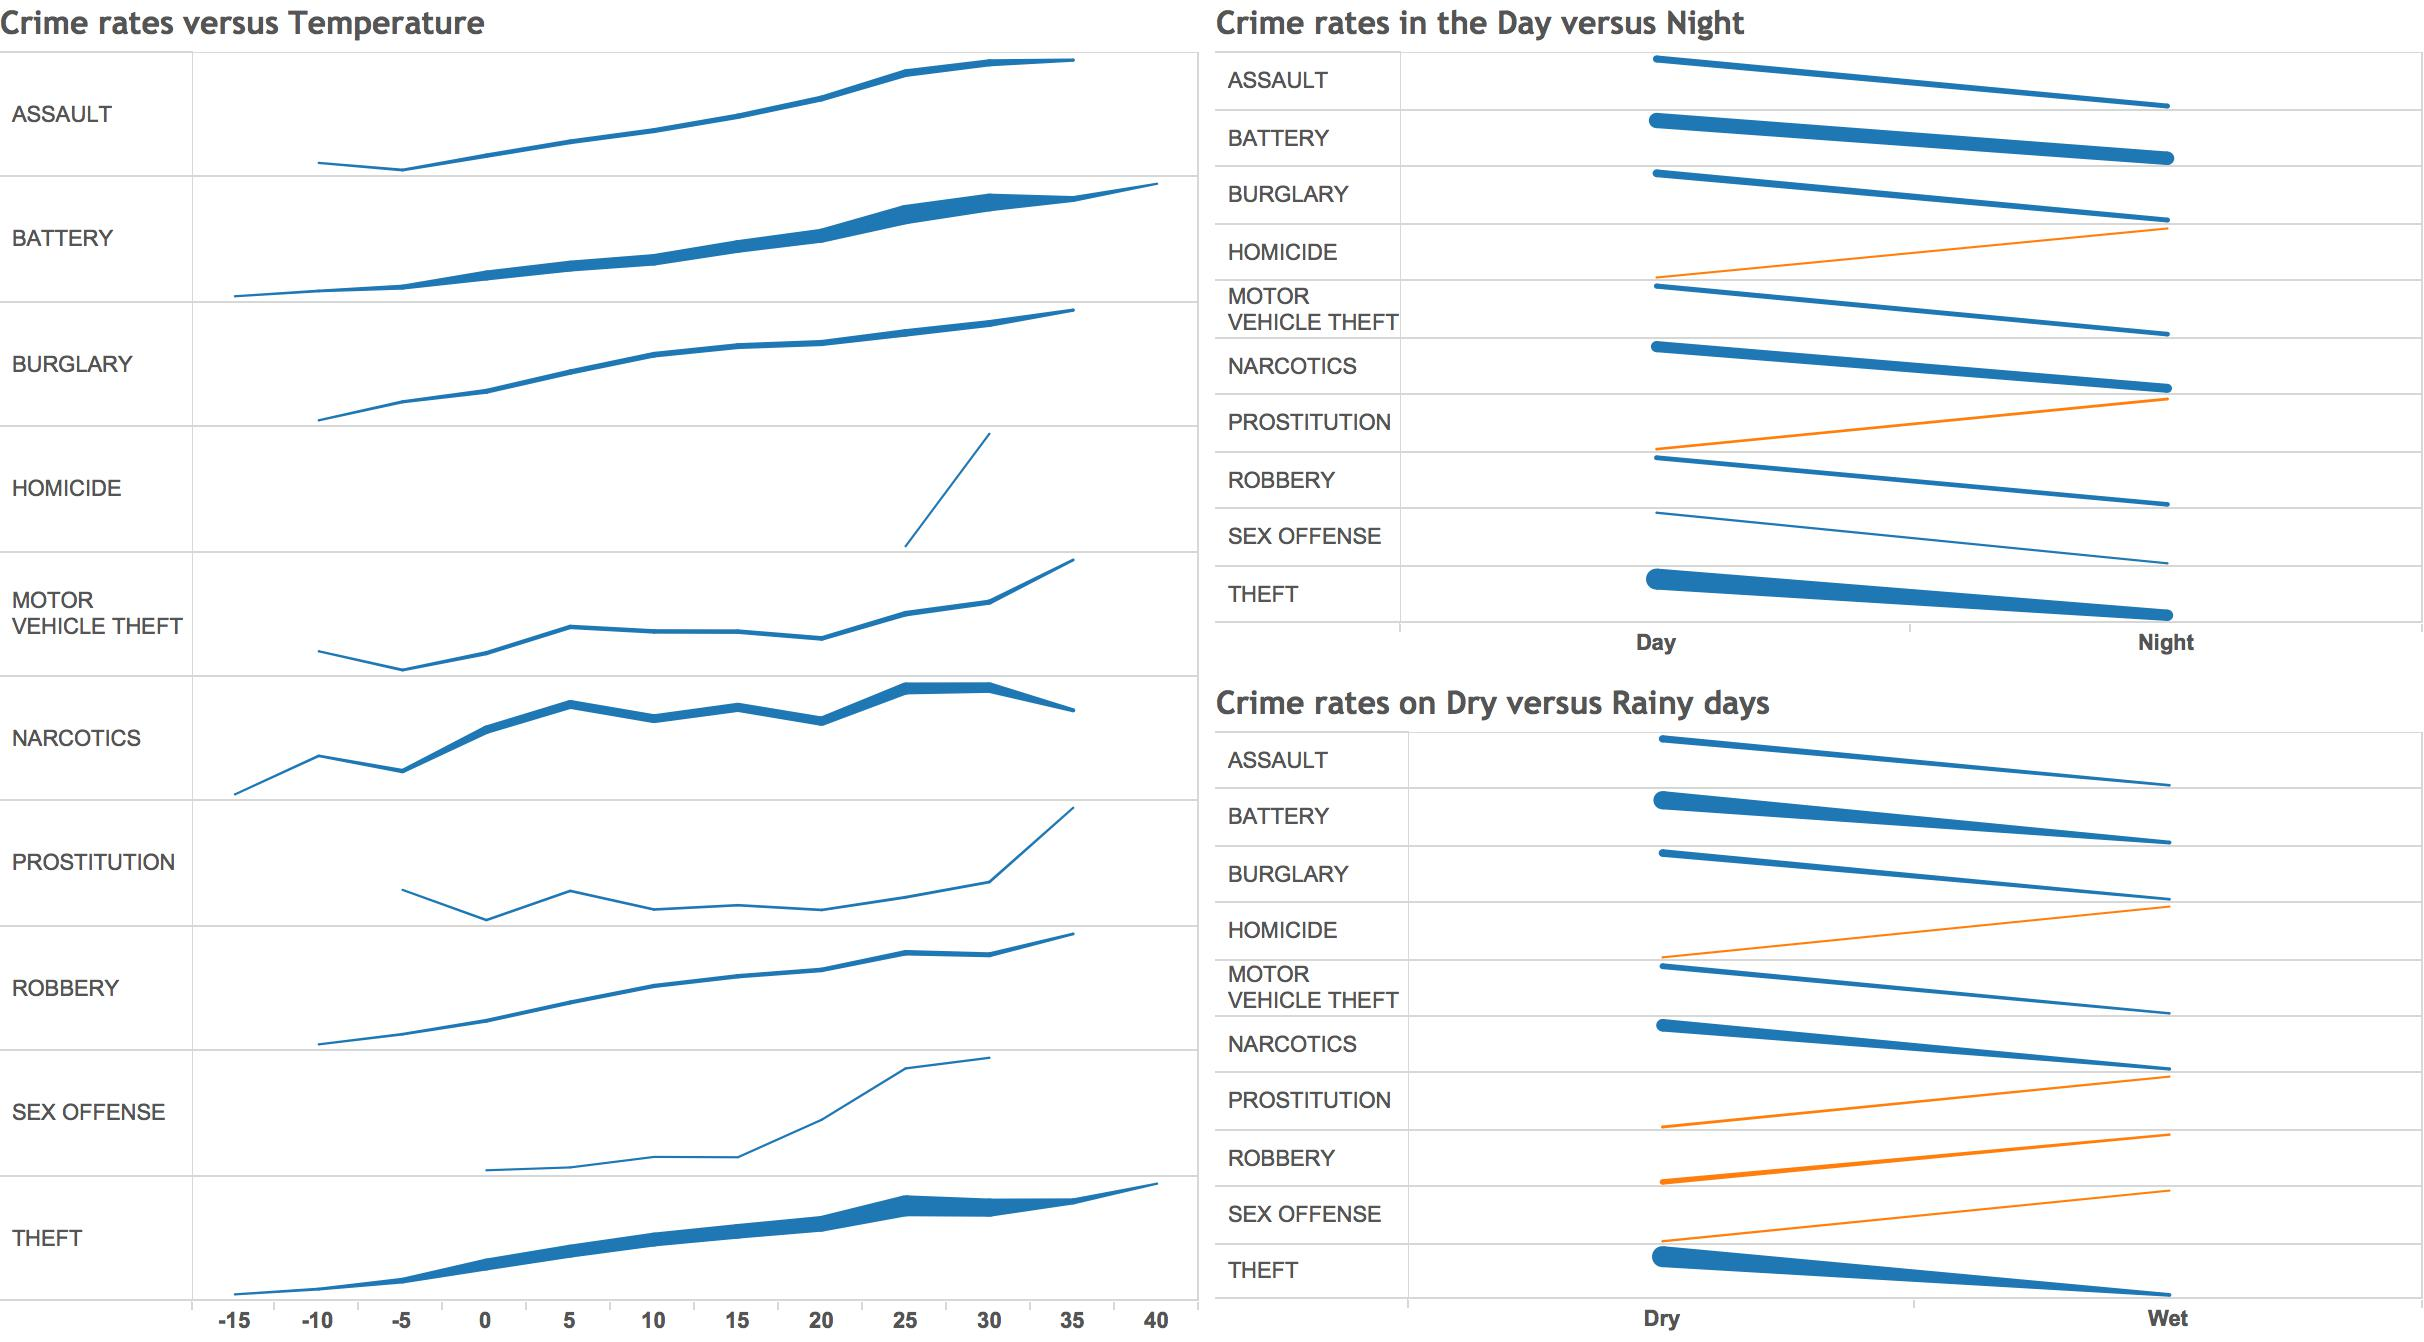

Layout of this report page (visuals, bound fields, positions):
{"tool":"tableau","page":{"name":"Dashboard 1","canvas":[1000,1000],"units":"permille","ordinal":0},"visuals":[{"type":"worksheet","title":"Per Crime by Temp","mark":"Line","rows":["F2","Calculation_1571211223908402"],"cols":["Calculation_0591211223829544"],"box":[0,0,498.4,1000]},{"type":"worksheet","title":"Day vs Night","mark":"Line","rows":["F2","Calculation_1571211223908402"],"cols":["F3"],"box":[498.4,0,498.4,500]},{"type":"worksheet","title":"Wet vs Dry","mark":"Line","rows":["F2","Calculation_1571211223908402"],"cols":["F4"],"box":[498.4,500,498.4,500]}]}

Visuals, with their boxes on the dashboard's canvas, which has no fixed pixel size, in thousandths of its width and height (x1, y1, x2, y2). These are canvas units, not pixel positions in the 2424x1342 screenshot, which may show the page scaled, cropped or inside an application window:
"Per Crime by Temp" worksheet (Line marks): 0/0/498/1000
"Day vs Night" worksheet (Line marks): 498/0/997/500
"Wet vs Dry" worksheet (Line marks): 498/500/997/1000
